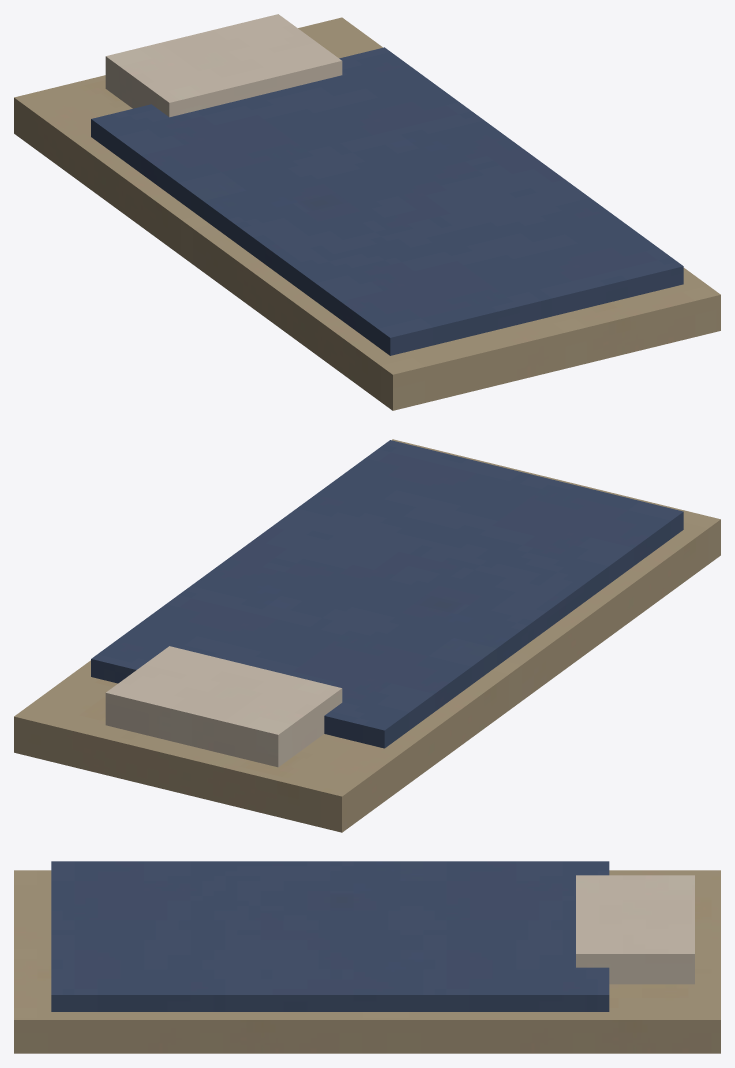
File: bed_futon_01.glb
The picture shows the model from 3 angles, top to bottom: view 1: azimuth 30°, elevation 25°; view 2: azimuth 150°, elevation 25°; view 3: azimuth 270°, elevation 25°; orthographic projection. The views are drawn at different scales.
Visible parts, largest first — view 1: bed_futon_01; view 2: bed_futon_01; view 3: bed_futon_01.
Part boxes in pixels (x1,y1,x2,y2): bed_futon_01: [14, 14, 720, 410]; bed_futon_01: [14, 439, 720, 832]; bed_futon_01: [14, 861, 720, 1053].
Size of the model in its own units: 0.9501 by 0.19 by 1.9.
3 materials, 3 textured.
